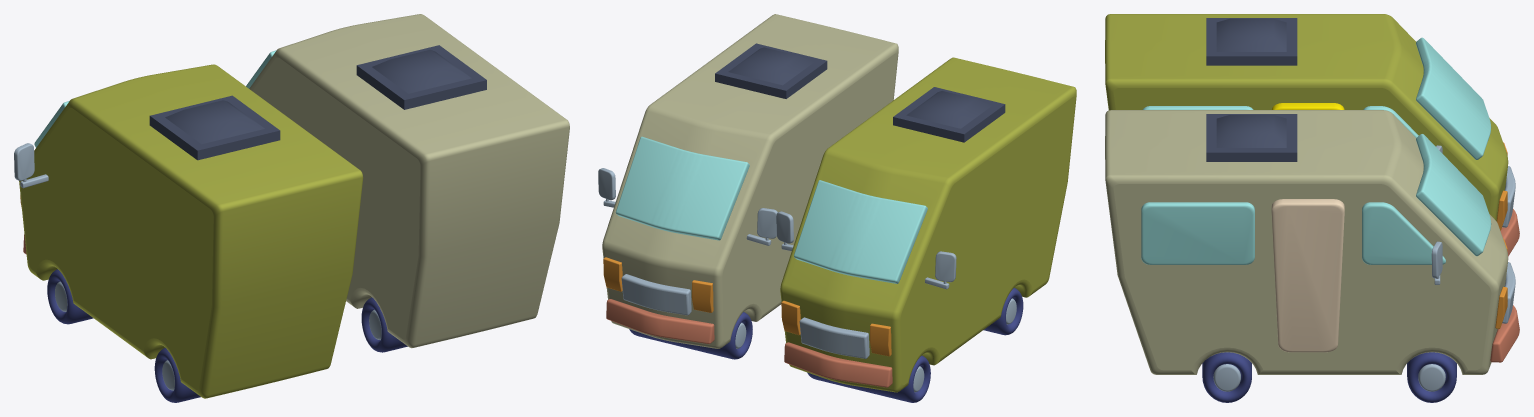
File: SM_RV_Factory.fbx
The picture shows the model from 3 angles, left to right: view 1: azimuth 30°, elevation 25°; view 2: azimuth 150°, elevation 25°; view 3: azimuth 270°, elevation 25°; orthographic projection. The views are drawn at different scales.
Visible parts, largest first — view 1: Cube.185; view 2: Cube.185; view 3: Cube.185.
Boxes of the visible parts, x1=… form: Cube.185: x1=14, y1=14, x2=569, y2=402; Cube.185: x1=598, y1=14, x2=1076, y2=402; Cube.185: x1=1105, y1=14, x2=1519, y2=402.
Size of the model in its own units: 401 by 245 by 365.
